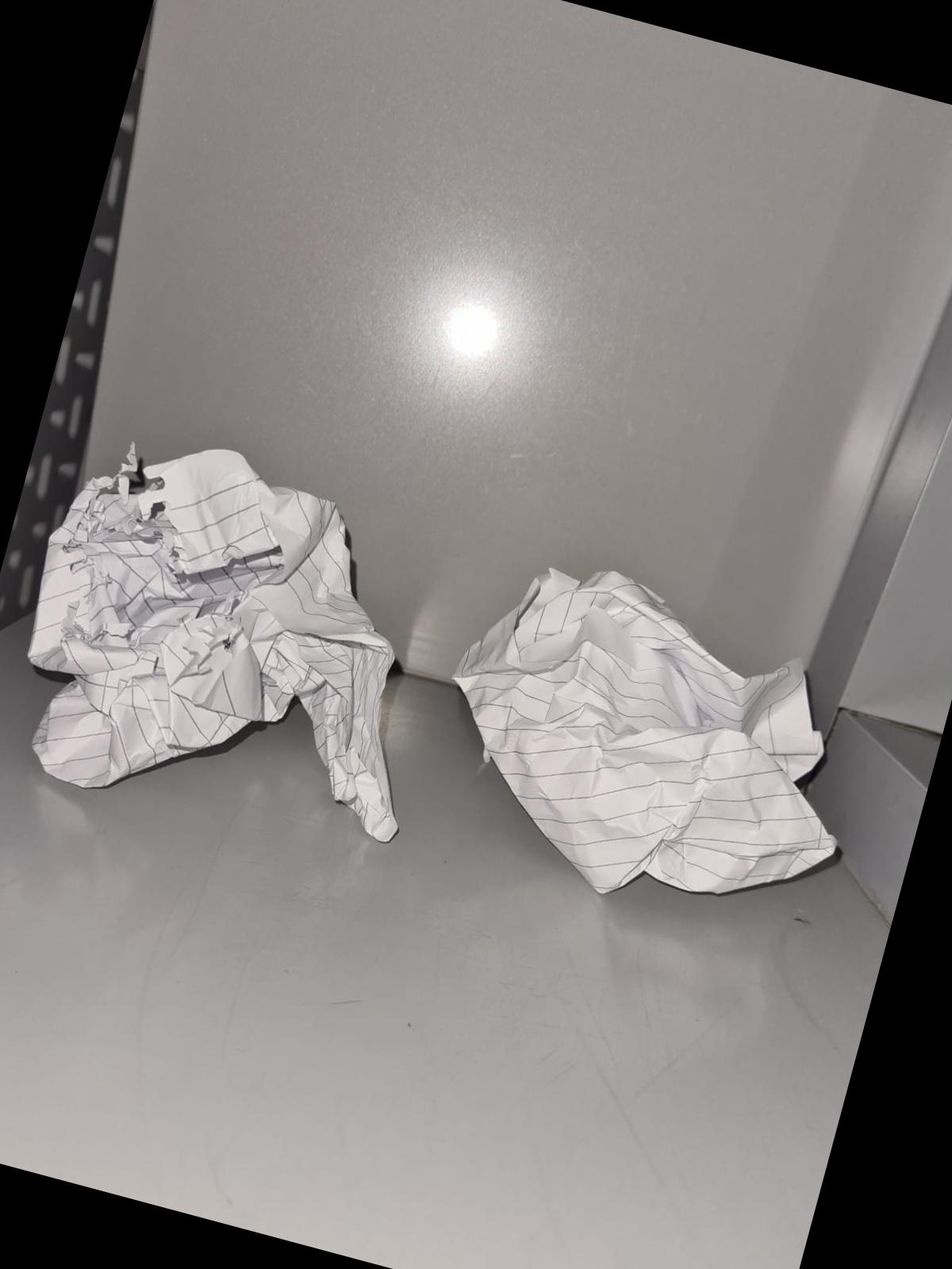Kertas: (19, 433, 422, 844), (448, 557, 841, 904)
